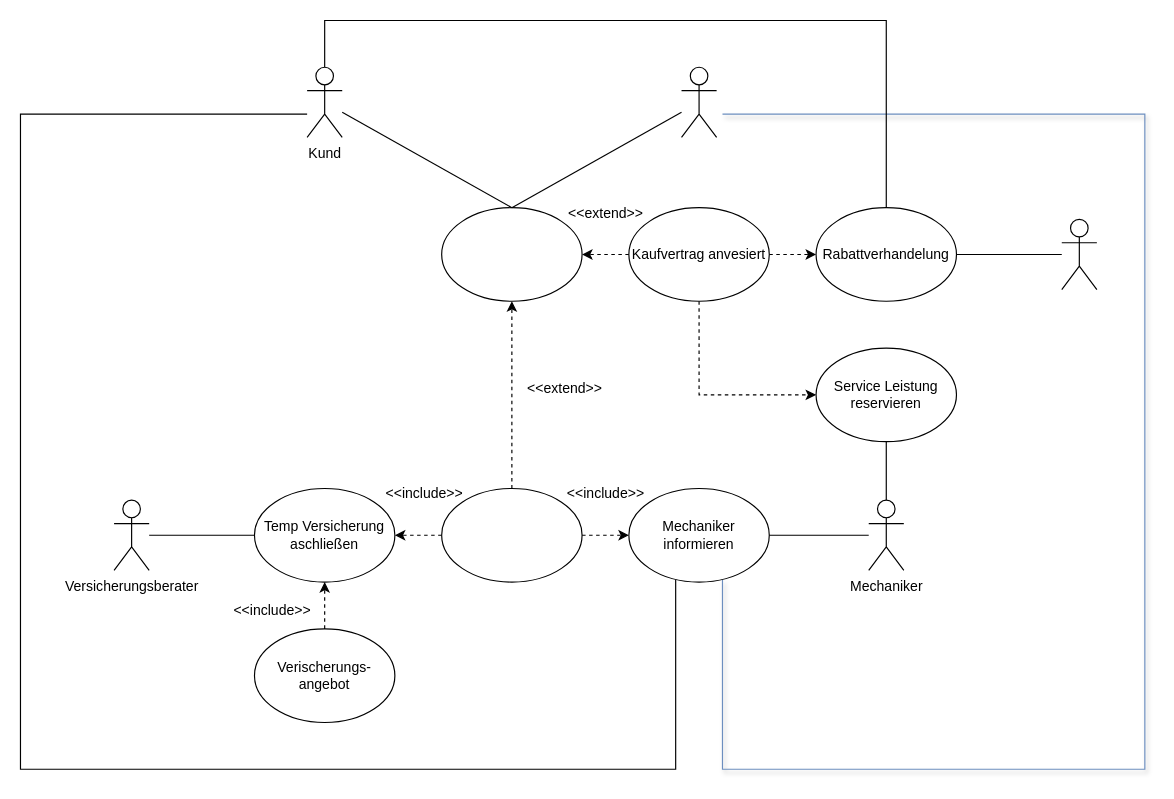
The diagram is 1174 pixels wide and 799 high, and some of its shapes have lost their labels. The shapes that lost their labels are listed below. From the top down, each one's centre as x and y in pixels, then its label:
point 698,101: Verkäufer
point 511,254: Beratung KFZ
point 1079,254: Fialleiter
point 511,534: Probefahrt durchführen
